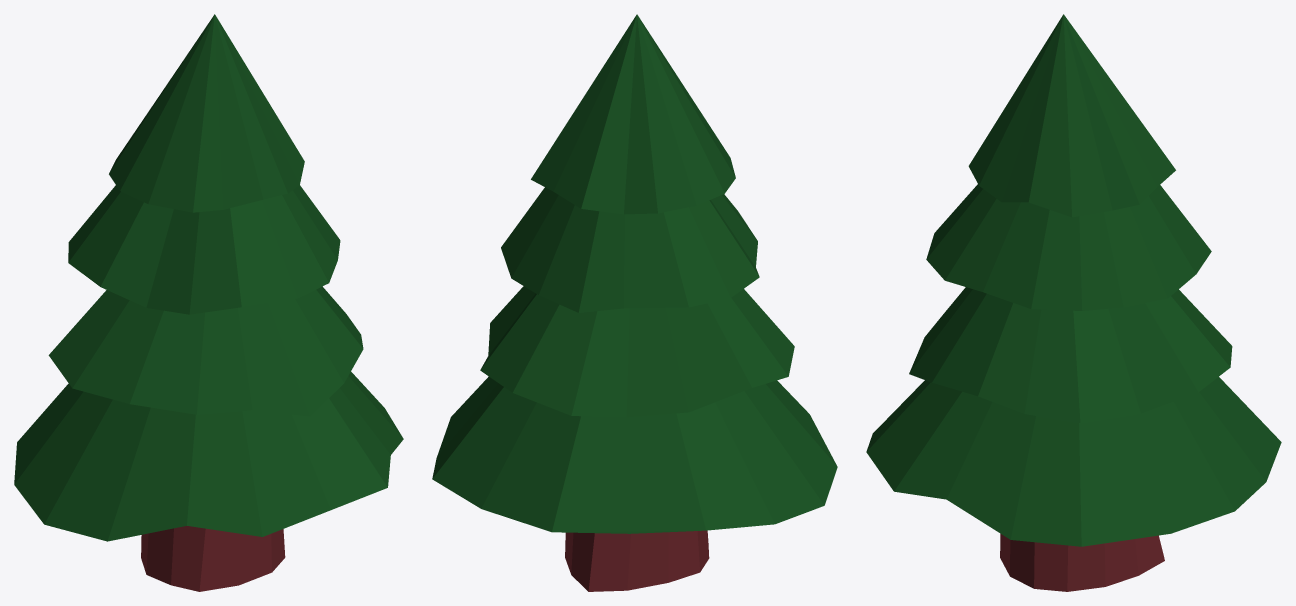
Rendered from Tree1.fbx.
3 views of the same model, side by side, from view 1: azimuth 30°, elevation 25°; view 2: azimuth 150°, elevation 25°; view 3: azimuth 270°, elevation 25° (orthographic).
Visible parts, largest first — view 1: Tree2.001; view 2: Tree2.001; view 3: Tree2.001.
Boxes of the visible parts, left/top/right/bottom form: Tree2.001: left=14, top=14, right=403, bottom=591; Tree2.001: left=432, top=14, right=837, bottom=591; Tree2.001: left=866, top=14, right=1281, bottom=591.
Size of the model in its own units: 468 by 681 by 468.
